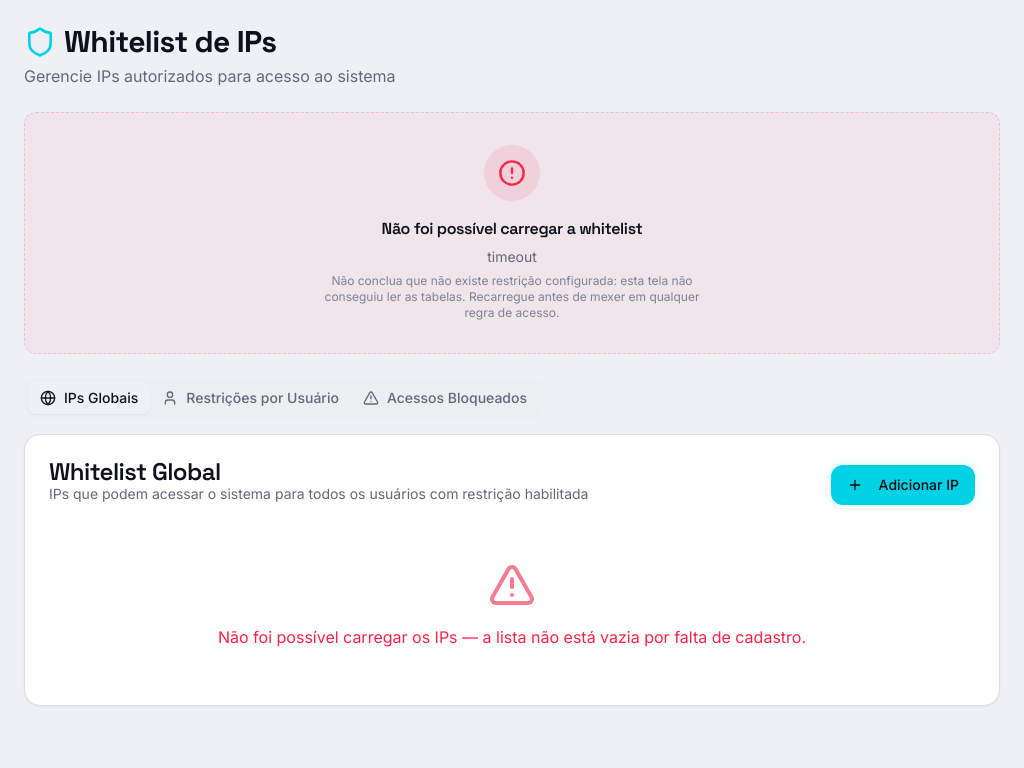
Test case: IPWhitelist › does not present an empty user table as "no restriction configured" on failure
Press the mouse on the tab "Restrições por Usuário": (251, 398) [150,382,351,414]
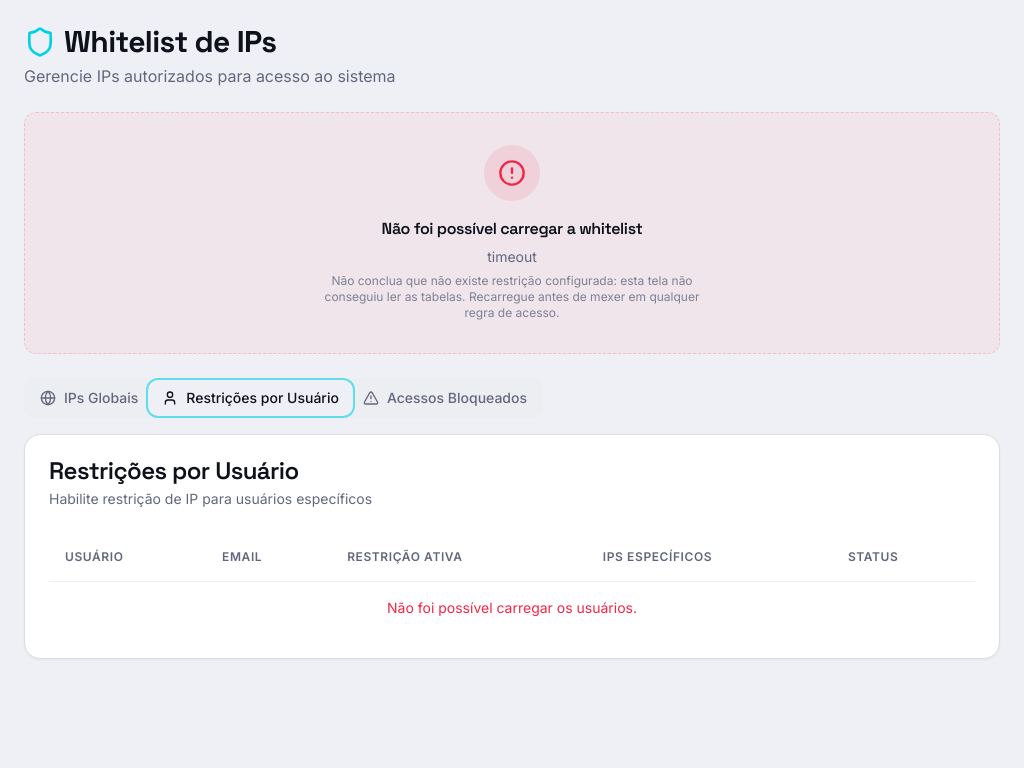
Result: the text "Não foi possível carregar os usuários." is shown at [49,581,975,634]
